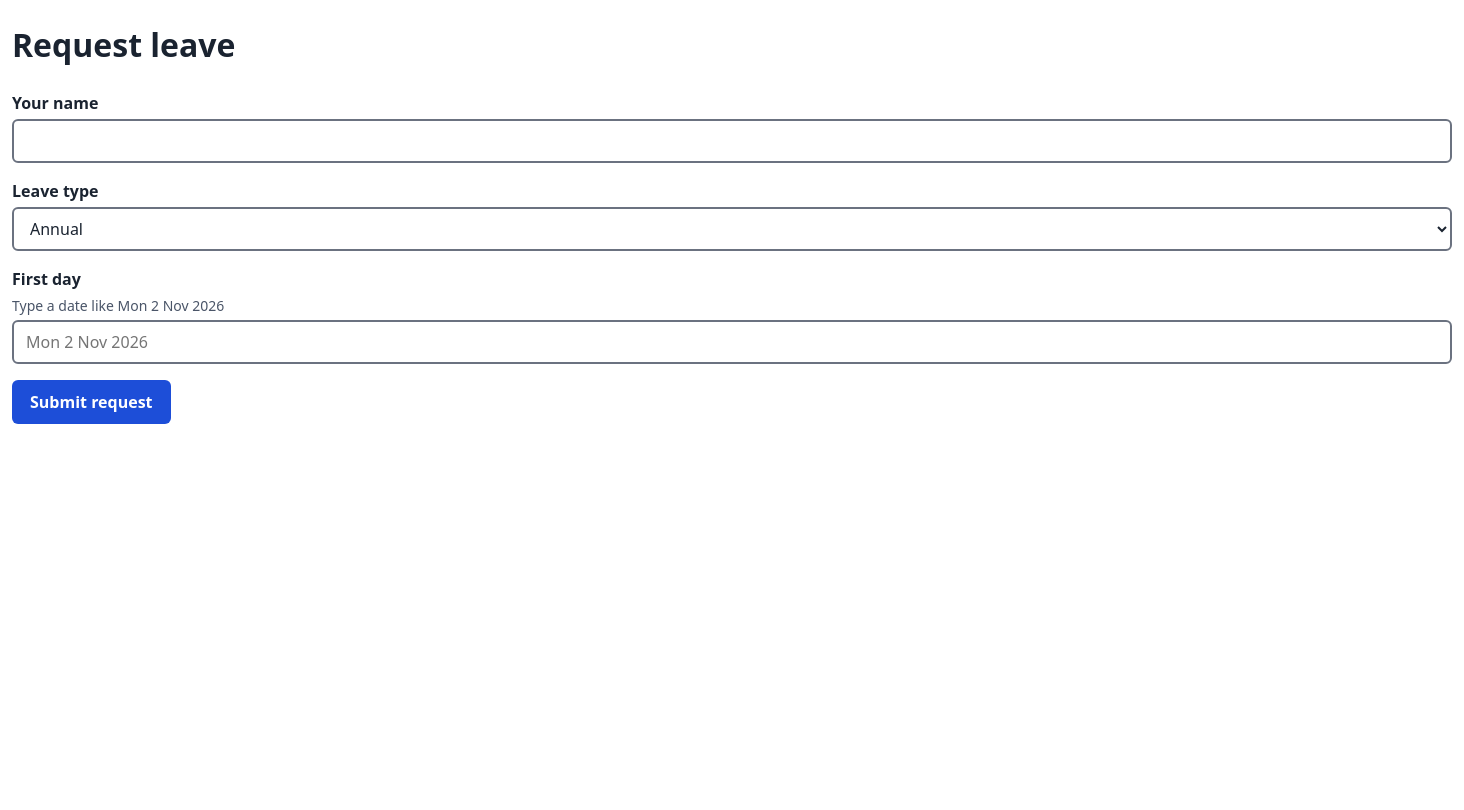
Scenario: SampleForm (R31b, R31d) › retains values on invalid submit
Type "Linh" into the field labelled "Your name" at (732, 141), box [12,119,1452,163]
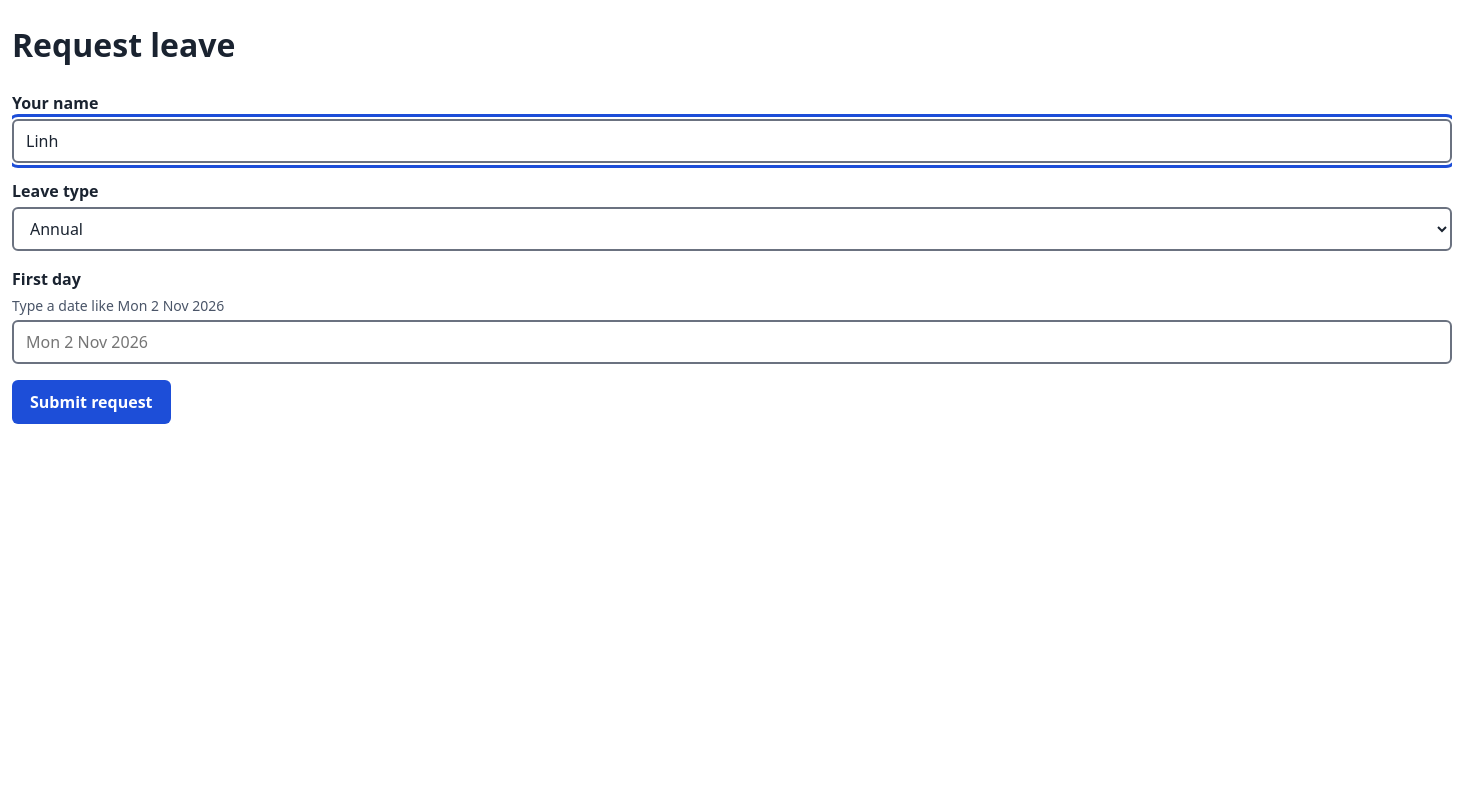
Click the button "Submit request" at (91, 402), box [12,380,170,424]
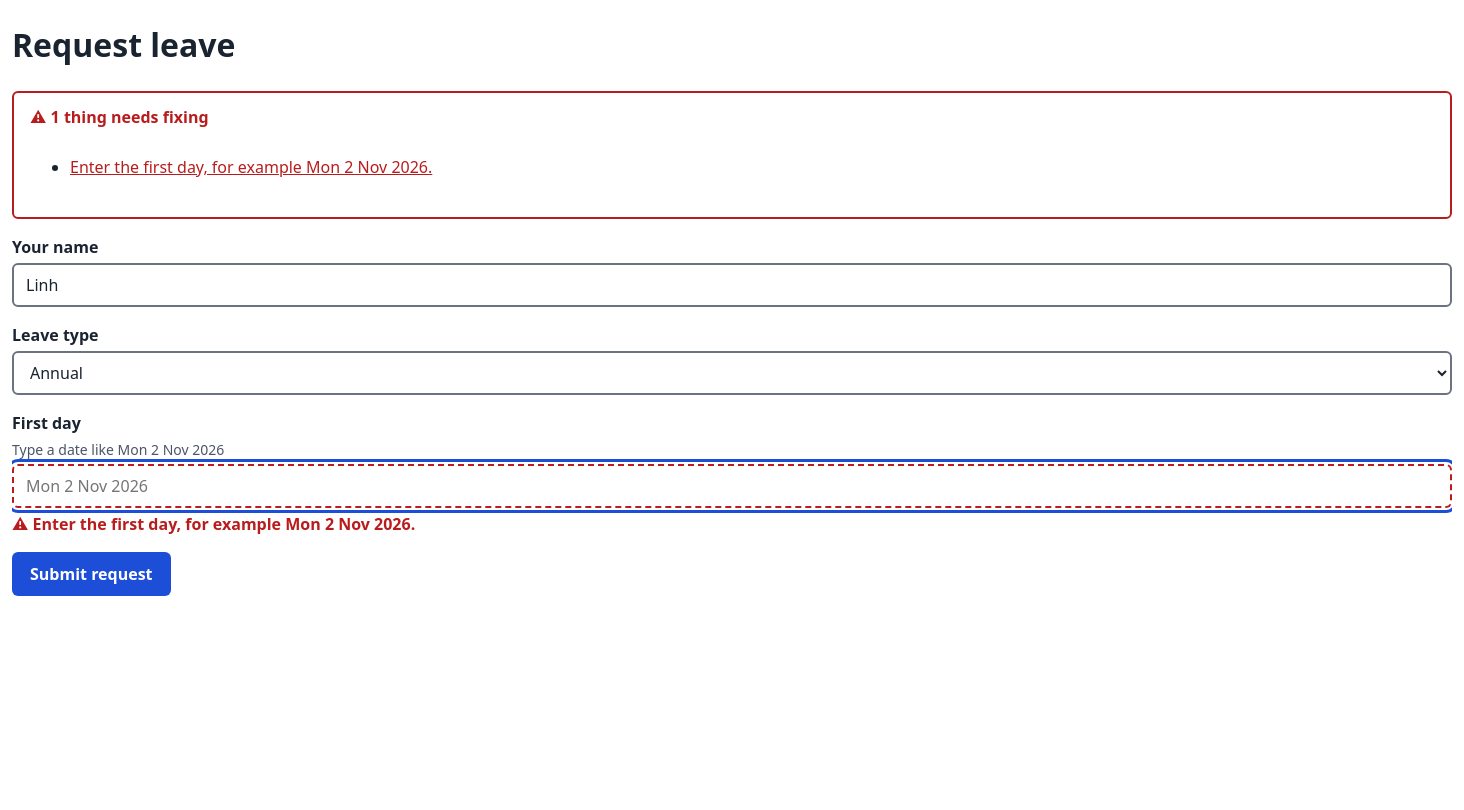
Check: the message shows "1 thing needs fixing", box [51,106,209,128]
